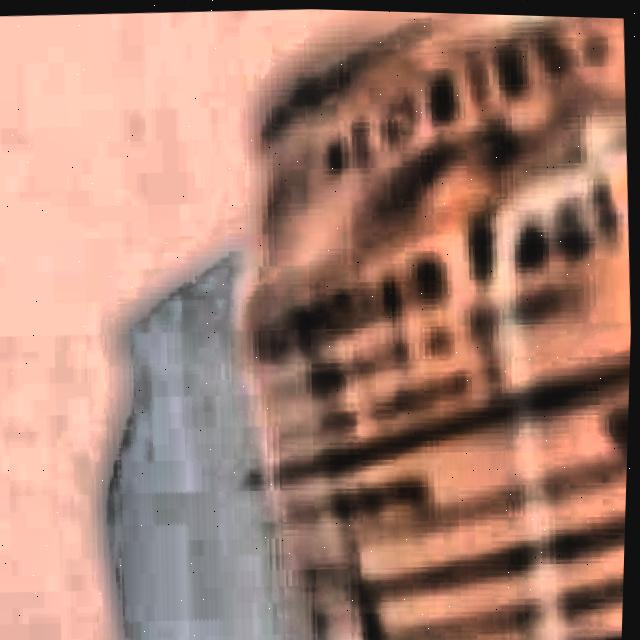metal: (232, 8, 633, 640)
